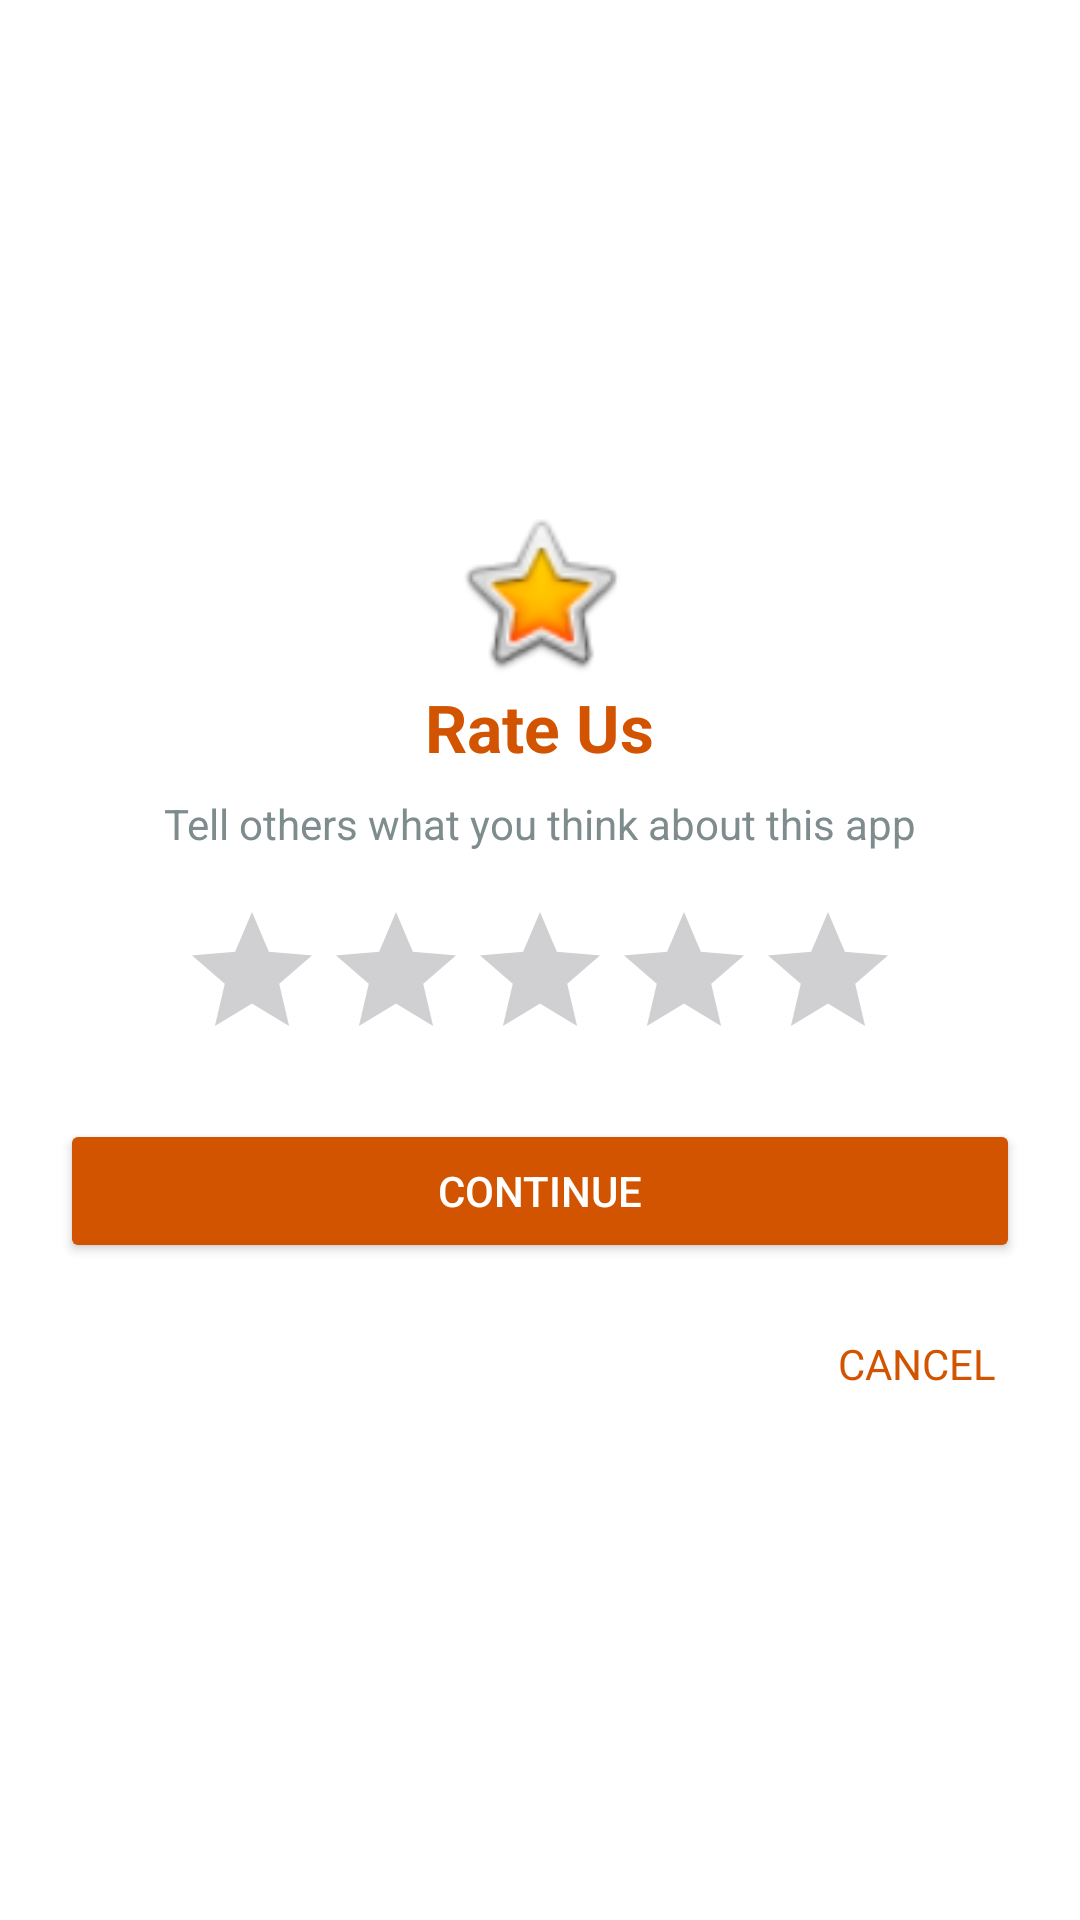

Icons on this 1080px×1920px Android screen, each with its box as box(x1, y1, x2, y2):
star on: box(466, 521, 617, 668)
